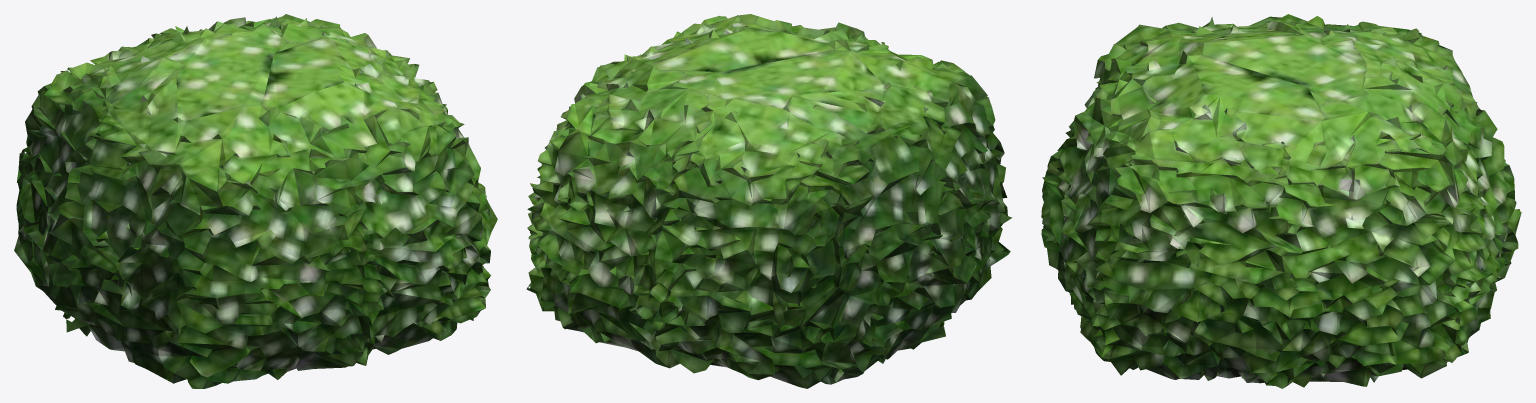
File: hedge.glb
The picture shows the model from 3 angles, left to right: view 1: azimuth 30°, elevation 25°; view 2: azimuth 150°, elevation 25°; view 3: azimuth 270°, elevation 25°; orthographic projection. The views are drawn at different scales.
Parts seen in each view (by area): view 1: geometry_0; view 2: geometry_0; view 3: geometry_0.
Boxes of the visible parts, <box> form: geometry_0: <box>14,14,497,388</box>; geometry_0: <box>526,14,1012,388</box>; geometry_0: <box>1041,14,1521,388</box>.
Size of the model in its own units: 0.9843 by 0.5552 by 0.9851.
Materials: 1 (1 with a texture image).
